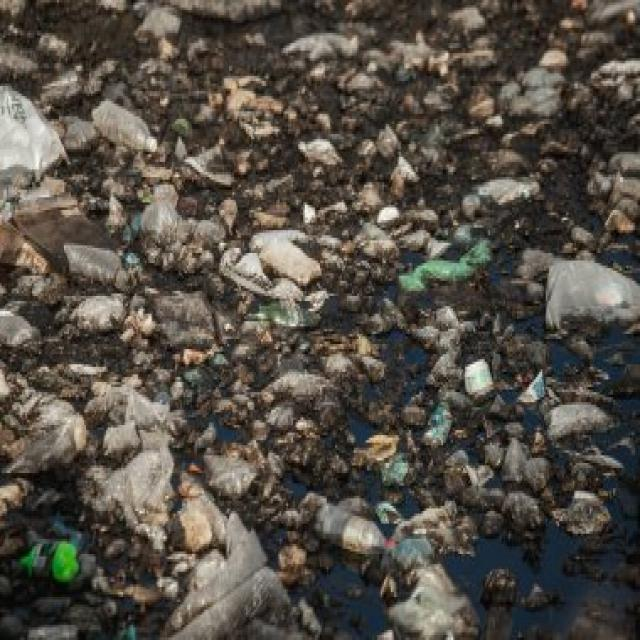garbage: (31, 48, 629, 603)
